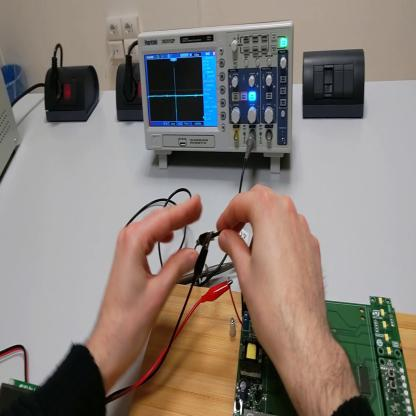hand: (217, 185, 336, 377), (98, 198, 203, 379)
low voltage board: (215, 231, 416, 415)
oscilloscope: (139, 16, 297, 177)
power supply: (2, 67, 21, 183)
socket: (45, 65, 101, 124), (115, 64, 146, 123)
working area: (126, 281, 416, 415)
